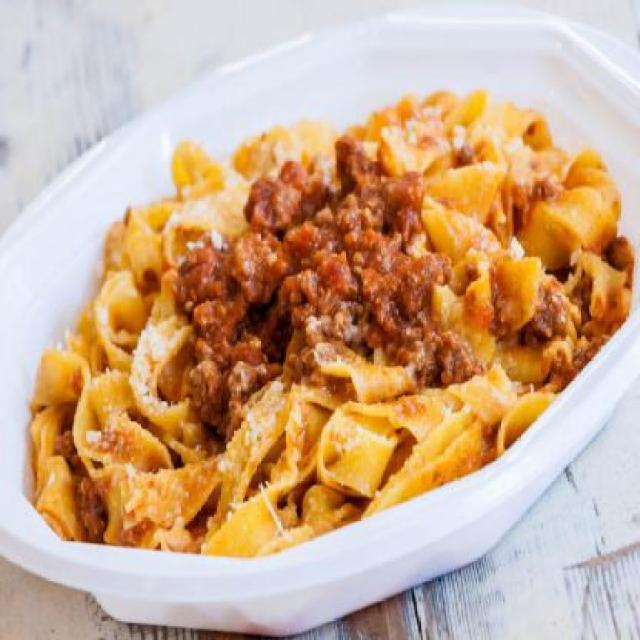Pasta al ragu: (53, 106, 624, 542)
